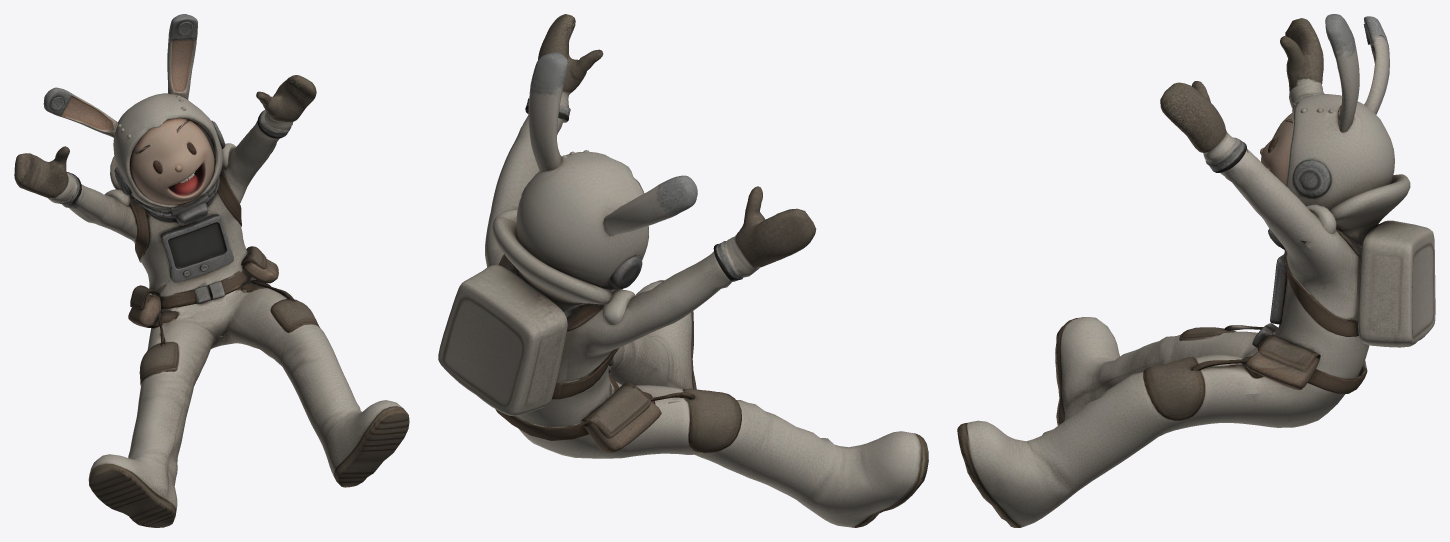
The model's file is astro-back.glb.
The picture shows the model from 3 angles, left to right: view 1: azimuth 30°, elevation 25°; view 2: azimuth 150°, elevation 25°; view 3: azimuth 270°, elevation 25°; orthographic projection. The views are drawn at different scales.
Parts seen in each view (by area): view 1: tripo_node_46971cd0-60cc-4094-9a44-12b612fc74da; view 2: tripo_node_46971cd0-60cc-4094-9a44-12b612fc74da; view 3: tripo_node_46971cd0-60cc-4094-9a44-12b612fc74da.
Part boxes in pixels (x1,y1,x2,y2): tripo_node_46971cd0-60cc-4094-9a44-12b612fc74da: (14, 14, 409, 527); tripo_node_46971cd0-60cc-4094-9a44-12b612fc74da: (438, 14, 928, 527); tripo_node_46971cd0-60cc-4094-9a44-12b612fc74da: (957, 14, 1435, 527).
Bounding box in the file's own units: 0.7007 × 0.9995 × 0.8521.
Materials: 1 (1 with a texture image).
